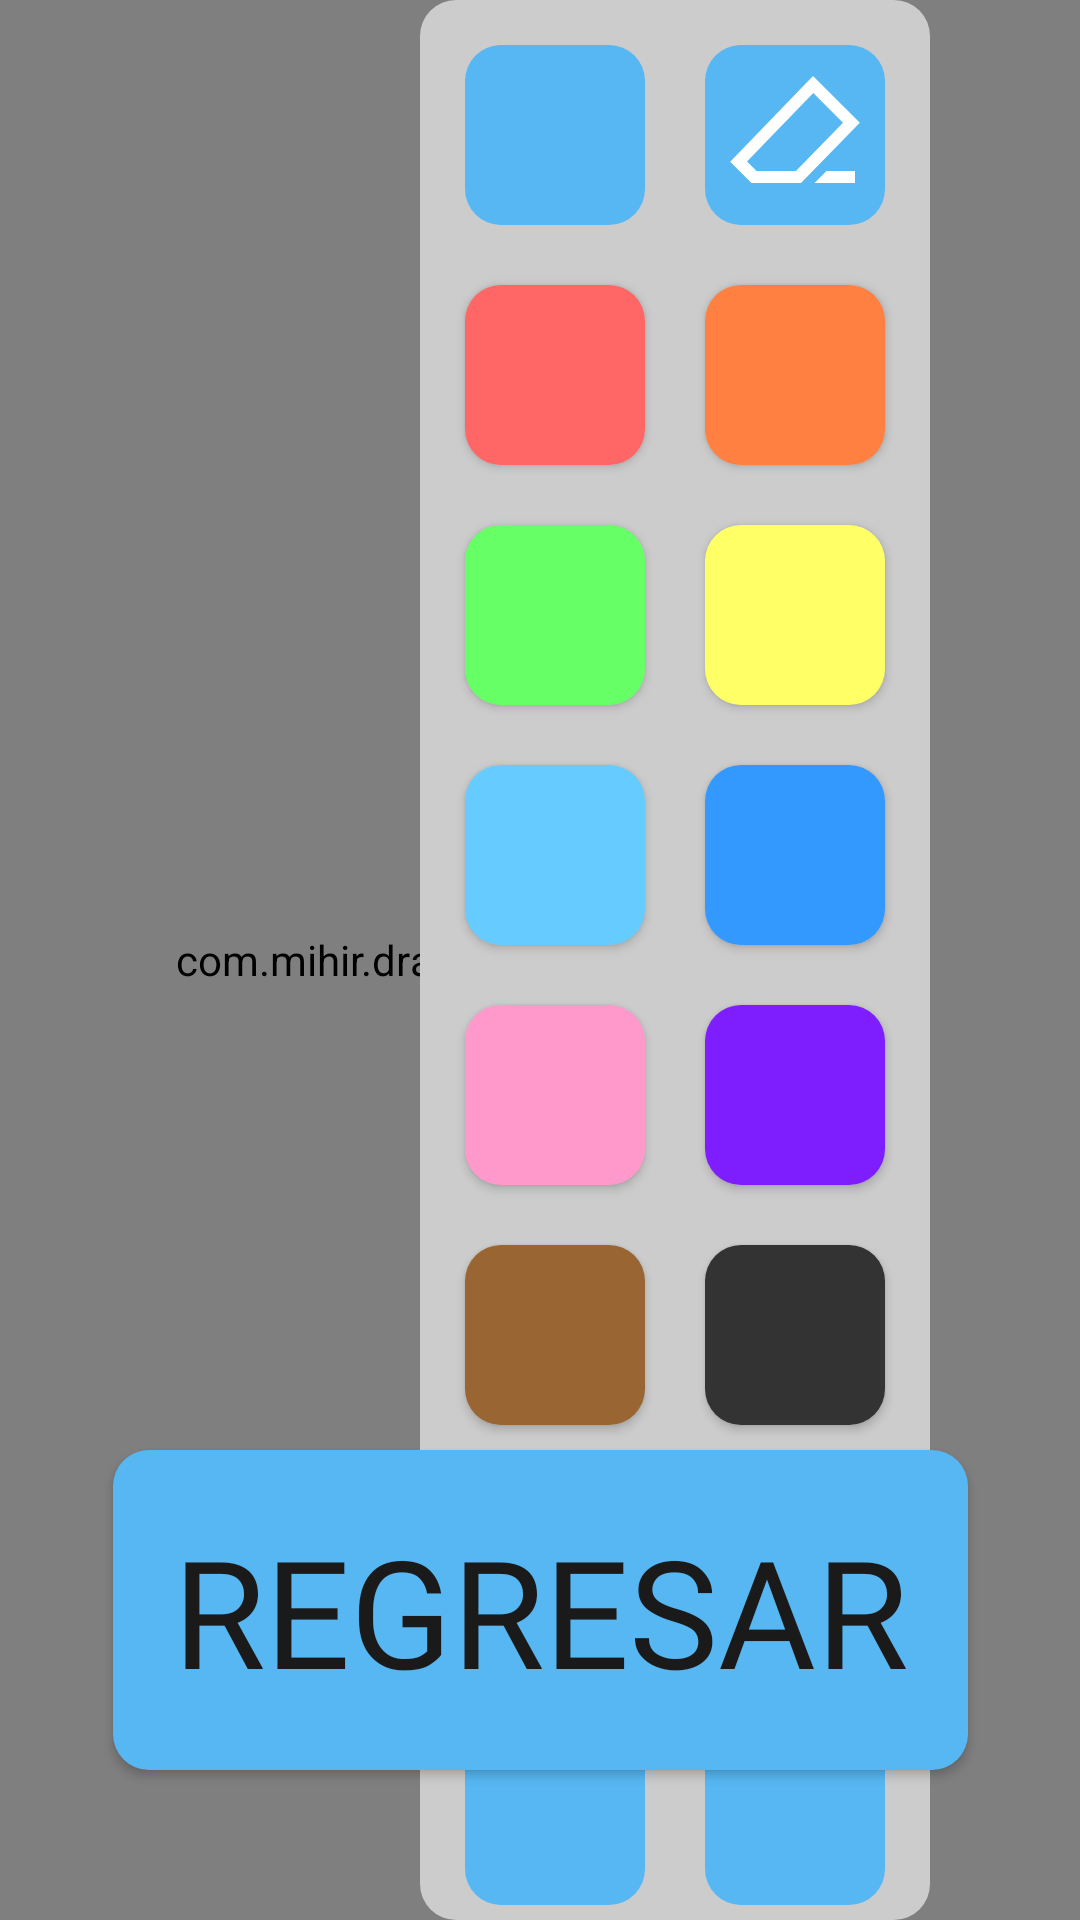

Icons on this 1080*1920 Android screen, each with its box as bbox(x1, y1, x2, y2):
ink eraser: bbox(705, 45, 885, 225)
